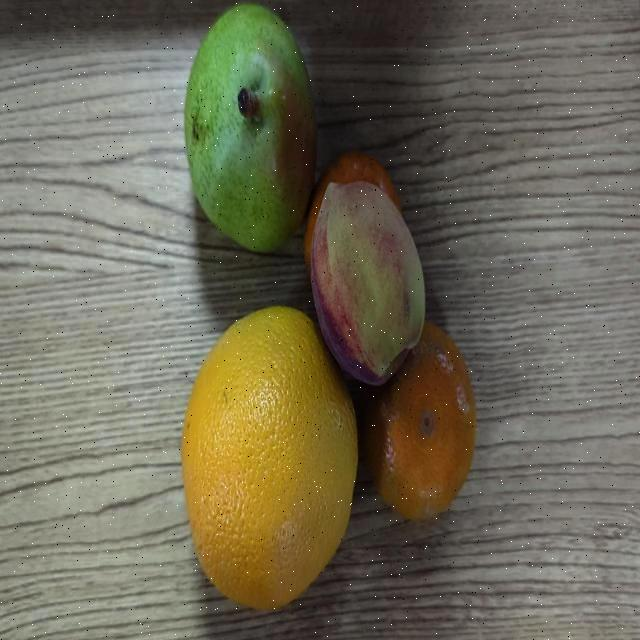Jeruk: (181, 308, 357, 604)
Jeruk Mandarin: (366, 336, 486, 526), (306, 131, 408, 232)
Persik: (313, 190, 414, 368)
Pir: (183, 0, 310, 246)
